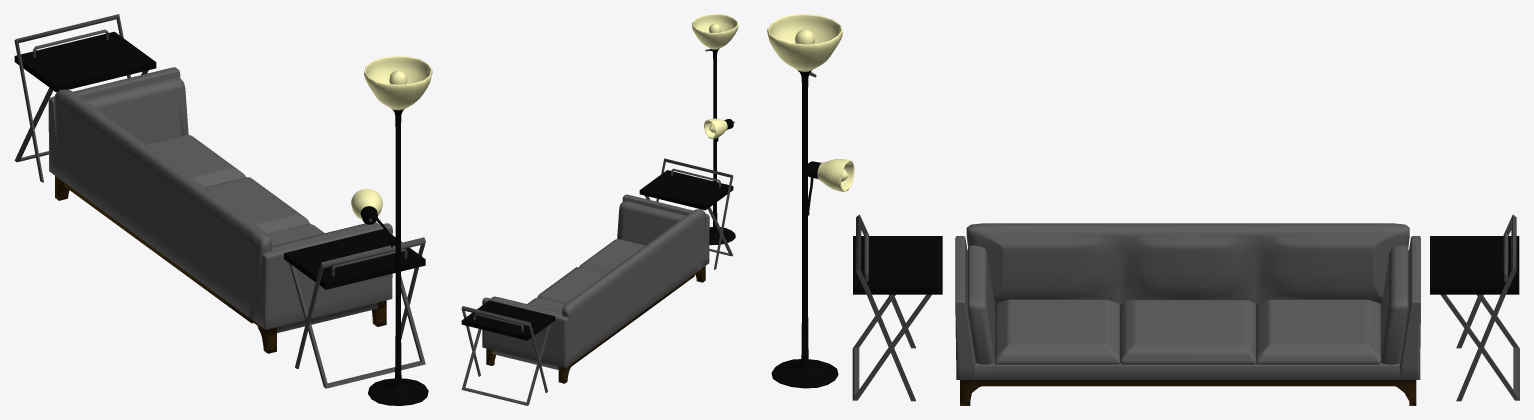
The picture shows the model from 3 angles, left to right: view 1: azimuth 30°, elevation 25°; view 2: azimuth 150°, elevation 25°; view 3: azimuth 270°, elevation 25°; orthographic projection. The views are drawn at different scales.
Parts seen in each view (by area): view 1: pCube1, Folding_Sidetable, Folding_Sidetable1, Standing_Lamp; view 2: pCube1, Folding_Sidetable1, Folding_Sidetable, Standing_Lamp; view 3: pCube1, Standing_Lamp, Folding_Sidetable, Folding_Sidetable1.
Boxes of the visible parts, <box> form: pCube1: <box>48,67,392,353</box>; Folding_Sidetable: <box>284,229,425,388</box>; Folding_Sidetable1: <box>14,14,156,182</box>; Standing_Lamp: <box>351,56,432,405</box>; pCube1: <box>482,194,709,383</box>; Folding_Sidetable1: <box>461,300,555,405</box>; Folding_Sidetable: <box>639,158,733,269</box>; Standing_Lamp: <box>691,14,738,245</box>; pCube1: <box>955,223,1420,405</box>; Standing_Lamp: <box>767,14,854,388</box>; Folding_Sidetable: <box>852,214,942,401</box>; Folding_Sidetable1: <box>1430,214,1519,401</box>.
Bounding box in the file's own units: 10.27 × 25.02 × 49.34.
